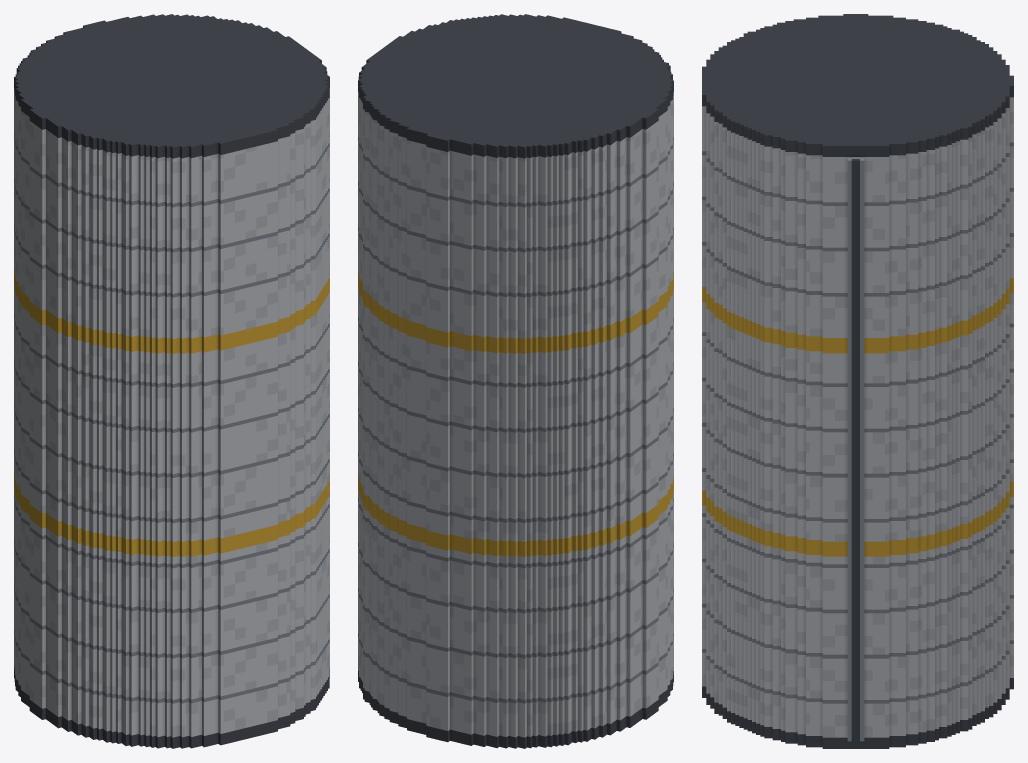
Rendered from tank_lh2_l8.glb.
3 views of the same model, side by side, from view 1: azimuth 30°, elevation 25°; view 2: azimuth 150°, elevation 25°; view 3: azimuth 270°, elevation 25° (orthographic).
Visible parts, largest first — view 1: tank_lh2_l8; view 2: tank_lh2_l8; view 3: tank_lh2_l8.
Boxes of the visible parts, x1=… form: tank_lh2_l8: x1=14, y1=14, x2=329, y2=748; tank_lh2_l8: x1=358, y1=14, x2=673, y2=748; tank_lh2_l8: x1=702, y1=14, x2=1013, y2=748.
Bounding box in the file's own units: 3.85 × 8 × 3.75.
